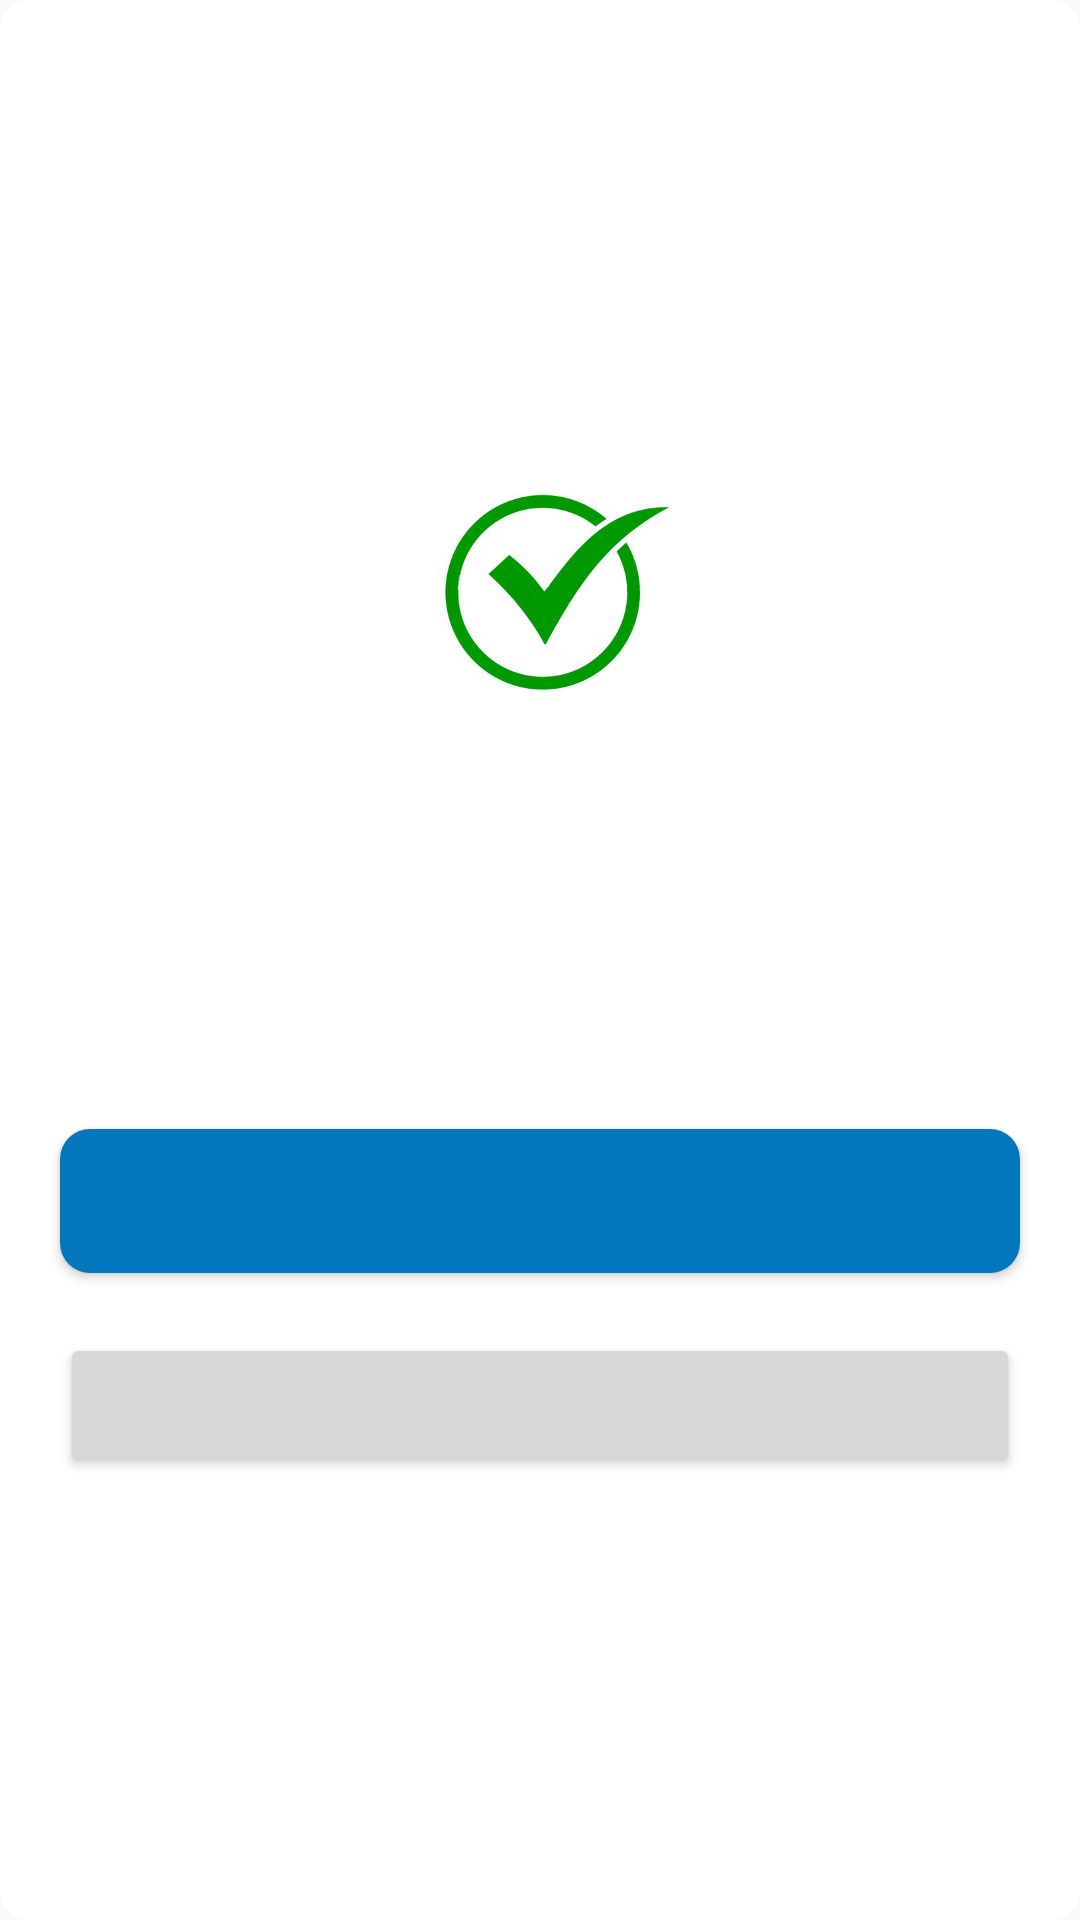

Icons on this 1080w x 1920h Android screen, each with the point to tap as [x,y]:
success: [557,592]
